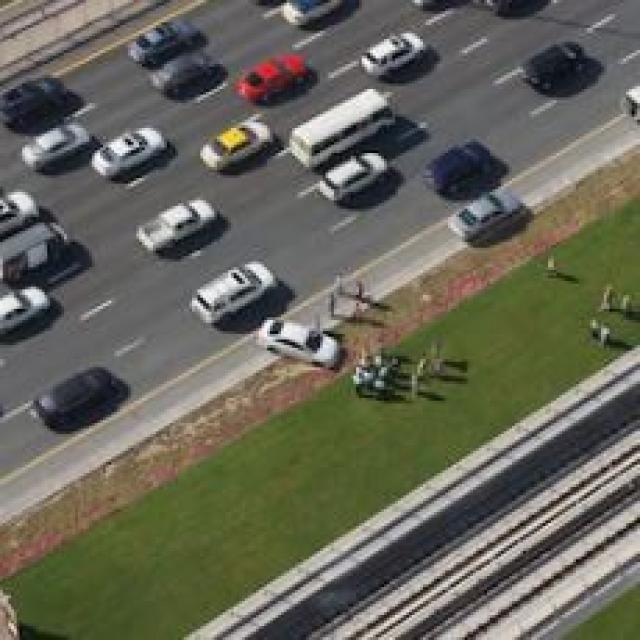traffic_incident: (250, 309, 426, 406)
